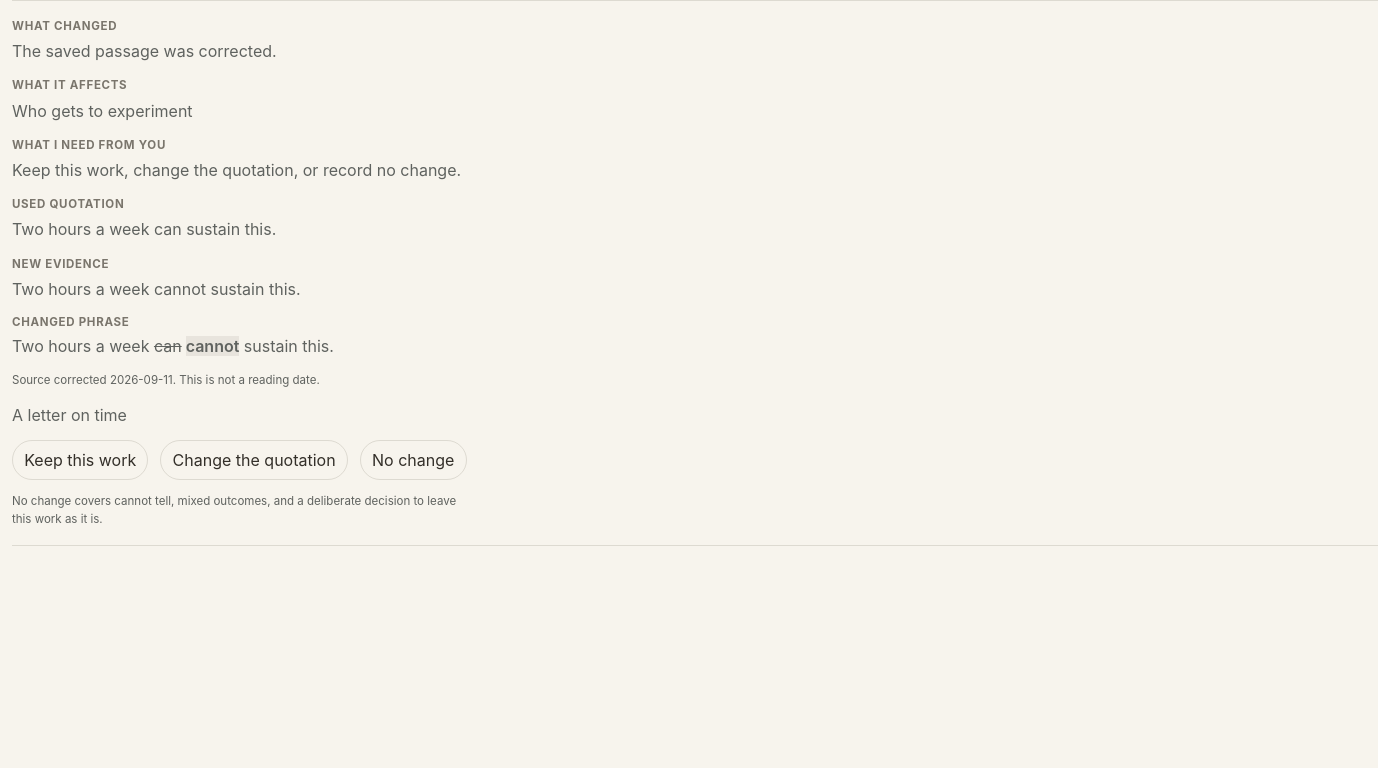
Scenario: SourceCorrectionReview › records change without inventing a rewrite
Click the button "Change the quotation".
click(254, 460)  # box [160, 440, 348, 480]
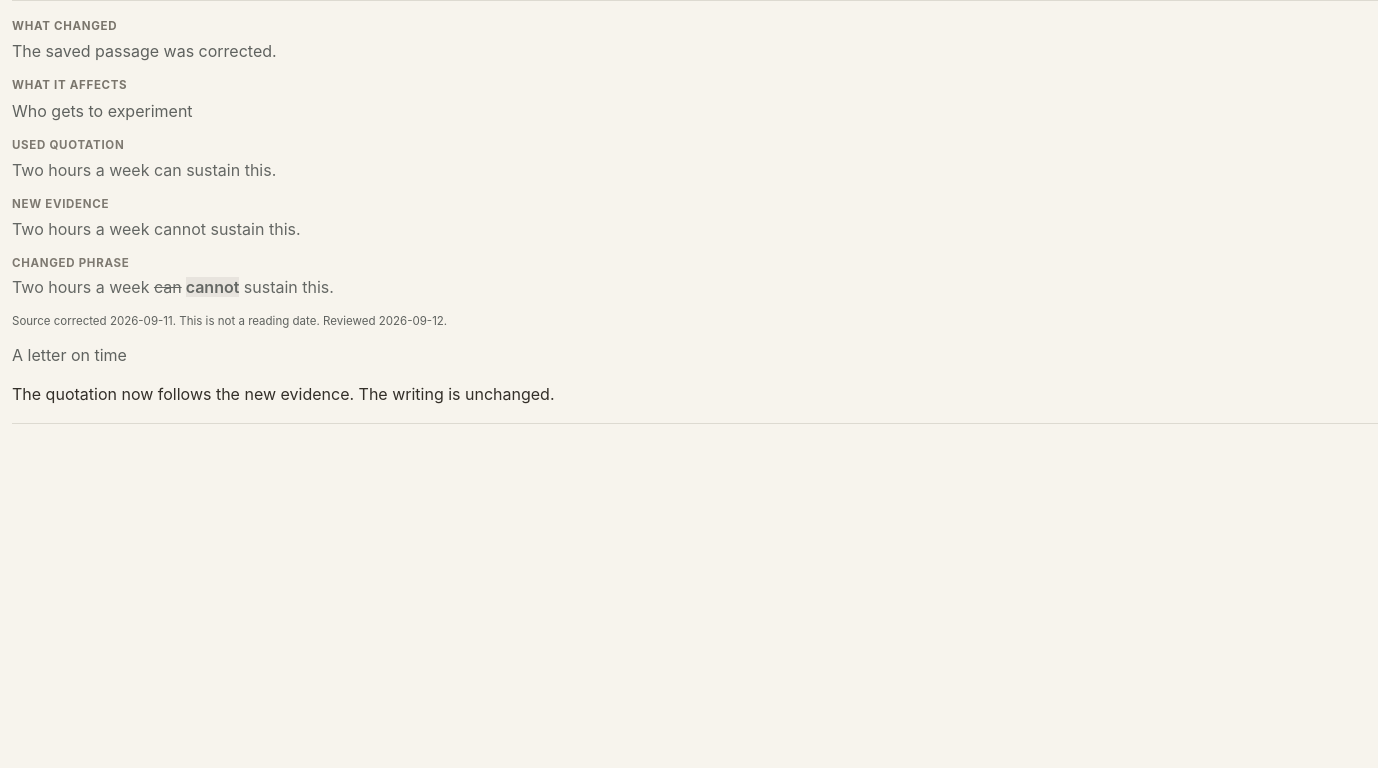
Expected: the text "Two hours a week can sustain this." is shown, [12, 160, 276, 180]
Now the text "The quotation now follows the new evidence. The writing is unchanged." is shown, box [12, 381, 638, 407]
Now the button "Keep this work" is gone
